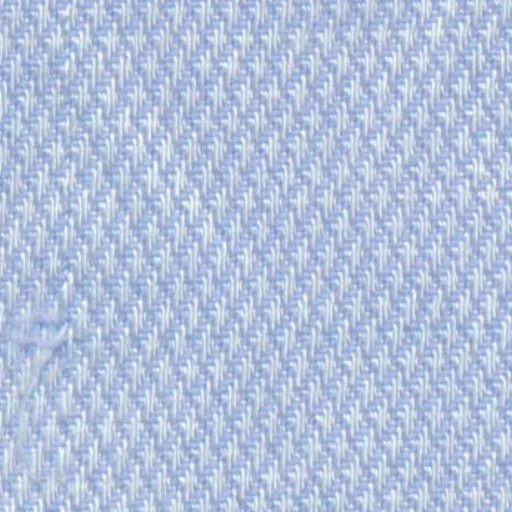DuanSha: (4, 291, 96, 446)
